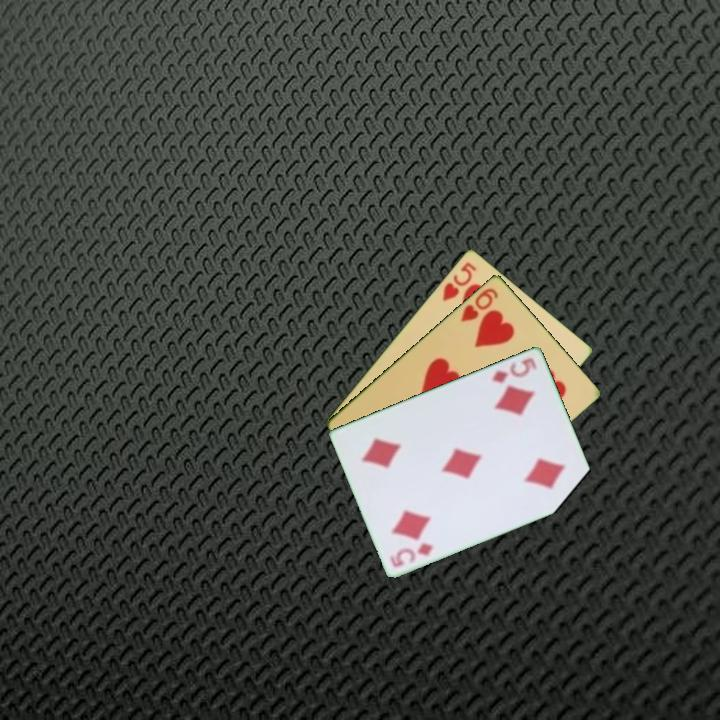5d: (488, 354, 540, 386), (387, 539, 436, 570)
5h: (439, 258, 479, 304)
6h: (457, 284, 501, 325)
